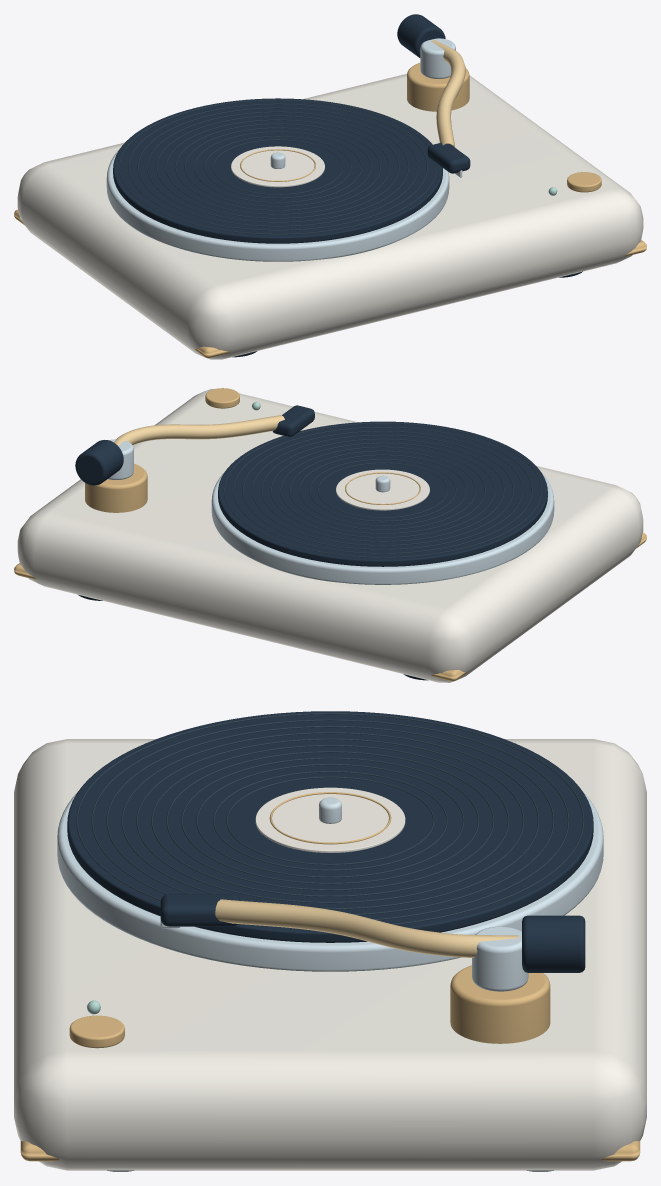
The model's file is music.glb.
3 views of the same model, one above another, from view 1: azimuth 30°, elevation 25°; view 2: azimuth 150°, elevation 25°; view 3: azimuth 270°, elevation 25° (orthographic). The views are drawn at different scales.
Visible parts, largest first — view 1: music_Sanctuary_PearlCeramic, music_Sanctuary_Vinyl, music_Sanctuary_RecordGrooves, music_Sanctuary_Silver, music_Sanctuary_ChampagneBrass, music_Sanctuary_PolishedGold; view 2: music_Sanctuary_PearlCeramic, music_Sanctuary_Vinyl, music_Sanctuary_RecordGrooves, music_Sanctuary_Silver, music_Sanctuary_ChampagneBrass, music_Sanctuary_PolishedGold; view 3: music_Sanctuary_PearlCeramic, music_Sanctuary_Vinyl, music_Sanctuary_Silver, music_Sanctuary_RecordGrooves, music_Sanctuary_ChampagneBrass, music_Sanctuary_PolishedGold.
Boxes of the visible parts, bbox=[...] form: music_Sanctuary_PearlCeramic: bbox=[17, 74, 643, 359]; music_Sanctuary_Vinyl: bbox=[113, 14, 582, 357]; music_Sanctuary_RecordGrooves: bbox=[119, 99, 437, 234]; music_Sanctuary_Silver: bbox=[106, 38, 462, 261]; music_Sanctuary_ChampagneBrass: bbox=[14, 63, 646, 358]; music_Sanctuary_PolishedGold: bbox=[431, 40, 465, 147]; music_Sanctuary_PearlCeramic: bbox=[17, 389, 643, 682]; music_Sanctuary_Vinyl: bbox=[75, 405, 547, 680]; music_Sanctuary_RecordGrooves: bbox=[223, 423, 541, 557]; music_Sanctuary_Silver: bbox=[108, 439, 554, 584]; music_Sanctuary_ChampagneBrass: bbox=[14, 388, 646, 681]; music_Sanctuary_PolishedGold: bbox=[114, 415, 284, 445]; music_Sanctuary_PearlCeramic: bbox=[14, 739, 646, 1170]; music_Sanctuary_Vinyl: bbox=[67, 711, 593, 1171]; music_Sanctuary_Silver: bbox=[57, 791, 603, 991]; music_Sanctuary_RecordGrooves: bbox=[76, 713, 584, 924]; music_Sanctuary_ChampagneBrass: bbox=[20, 792, 640, 1161]; music_Sanctuary_PolishedGold: bbox=[215, 899, 518, 957].
Size of the model in its own units: 2.5 by 0.776 by 1.9.
